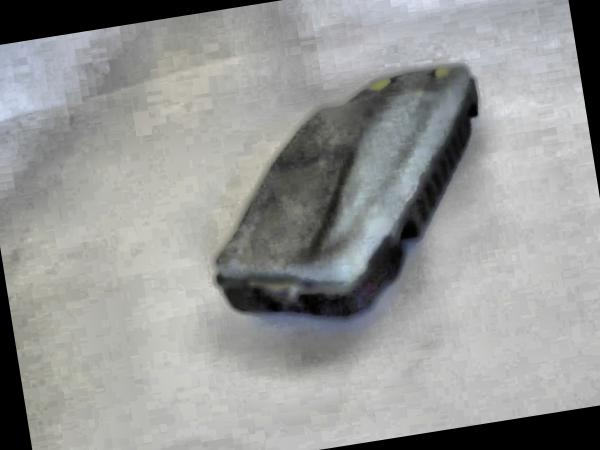normal_car: (179, 56, 512, 344)
